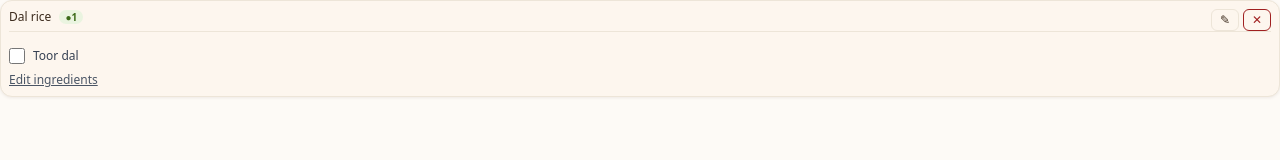
Test: Feature 001 sign-off — AC-008 meal rename re-runs Ollama › PATCHes a new meal name and shows ingredient loading after confirm
Click the button named "Edit meal".
click(1225, 20)  # box [1211,9,1239,31]
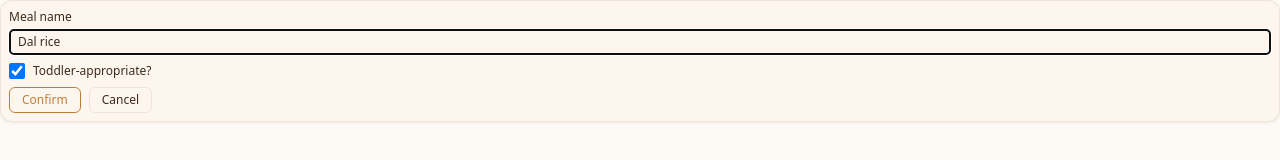
Replace the text in the field labelled "Meal name" with "Prawn masala" at (640, 42), box [9,29,1271,55]
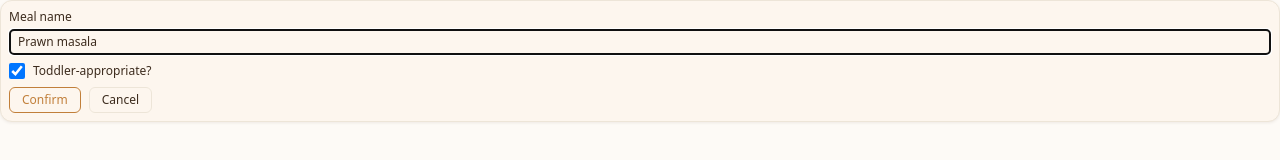
Click the button "Confirm".
click(45, 100)  # box [9,87,81,113]
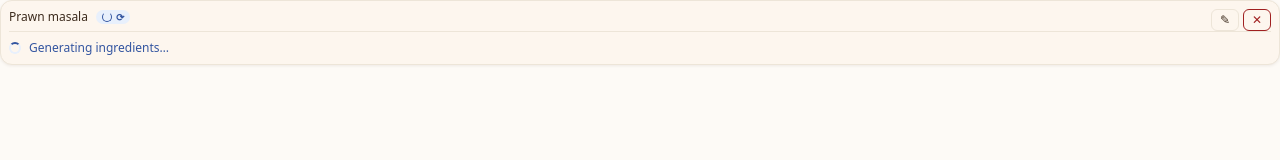
Expected: the button with aria-label "Prawn masala, collapse ingredients" is shown, [9,9,1203,25]
Expected: the element named "Generating ingredients" is shown, [96,10,130,24]
